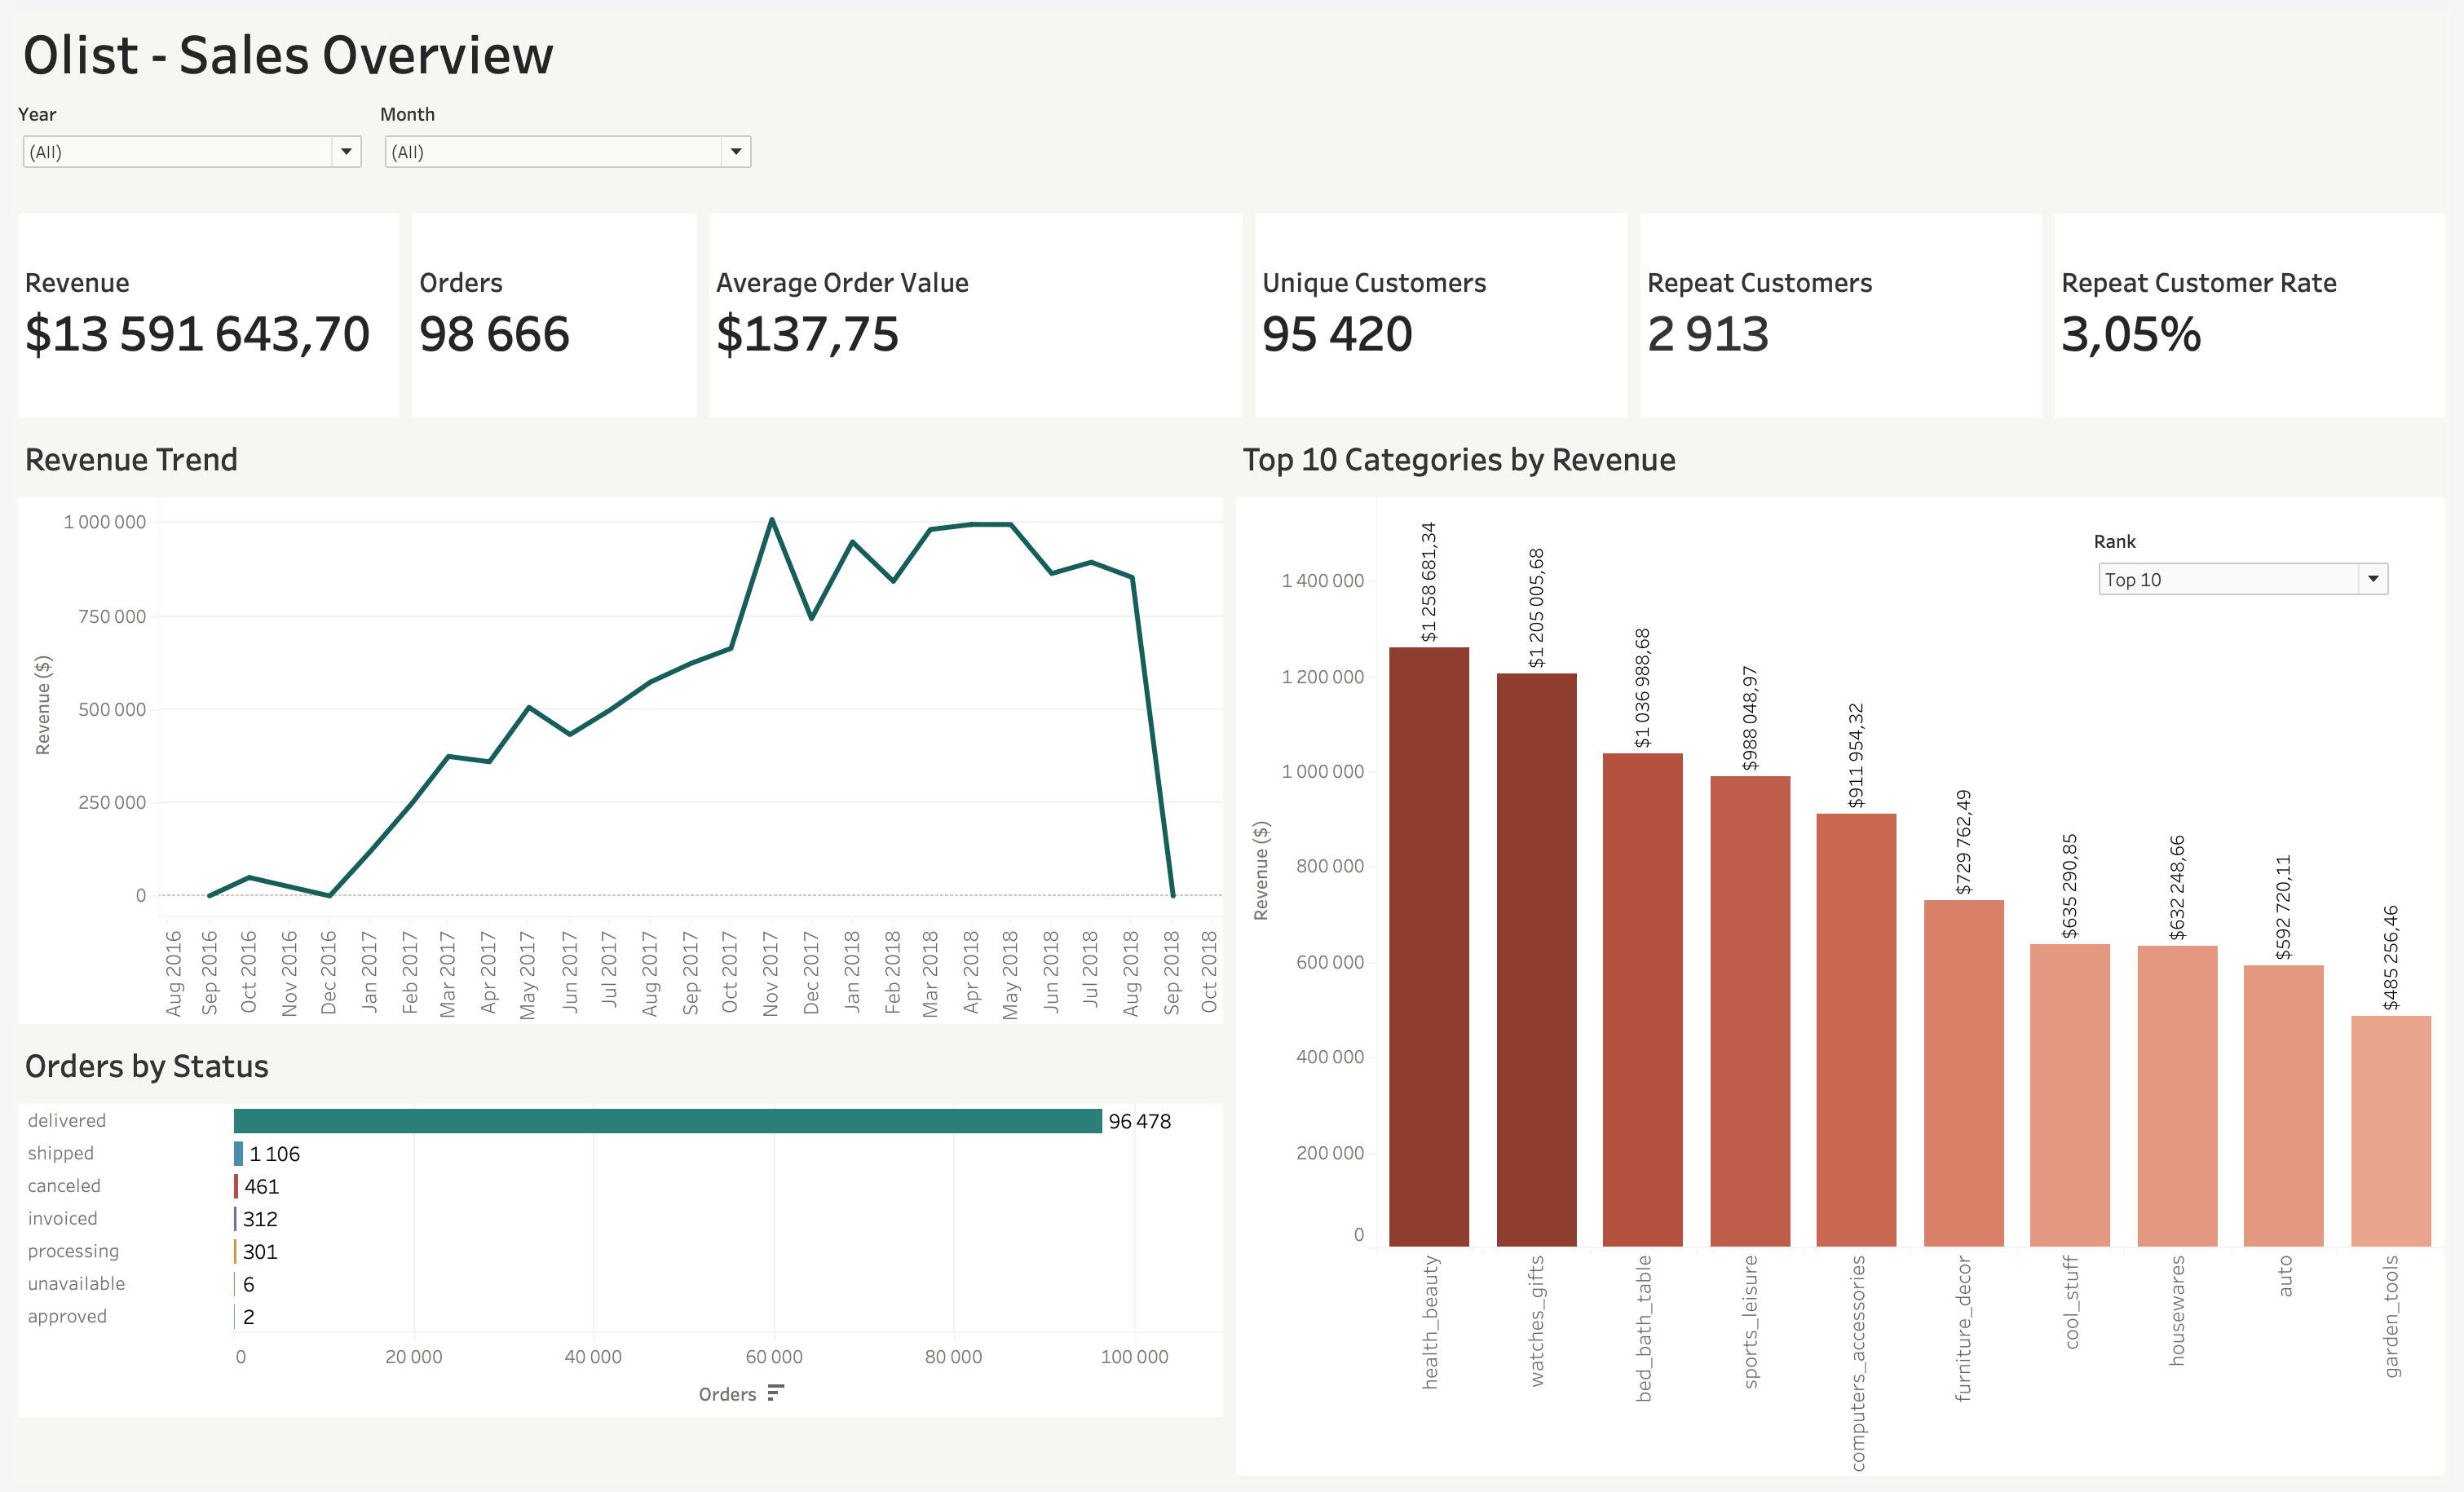

Layout of this report page (visuals, bound fields, positions):
{"tool":"tableau","page":{"name":"Sales Analysis","canvas":[1000,1000],"units":"permille","ordinal":1},"visuals":[{"type":"title","box":[5.4,9.7,989.2,62.7]},{"type":"filter","title":"Orders by Status","param":"[federated.1svawzv15lw1871e6vdpe0euouzc].[yr:order_purchase_timestamp:ok]","box":[5.4,72.4,149.4,68.7]},{"type":"filter","title":"Revenue Trend","param":"[federated.1svawzv15lw1871e6vdpe0euouzc].[mn:order_purchase_timestamp:ok]","box":[154.8,72.4,160.8,68.7]},{"type":"worksheet","title":"KPI Revenue","mark":"Automatic","box":[5.4,141.1,162.8,144.8]},{"type":"worksheet","title":"KPI Orders","mark":"Automatic","box":[168.2,141.1,122.5,144.8]},{"type":"worksheet","title":"KPI AOV","mark":"Automatic","box":[290.7,141.1,216.6,144.8]},{"type":"worksheet","title":"KPI Unique Customers","mark":"Automatic","box":[507.3,141.1,158.8,144.8]},{"type":"worksheet","title":"KPI Repeat Customers","mark":"Automatic","box":[666.1,141.1,162.3,144.8]},{"type":"worksheet","title":"KPI Repeat Customer Rate","mark":"Automatic","box":[828.4,141.1,166.2,144.8]},{"type":"worksheet","title":"Revenue Trend","mark":"Line","rows":["Calculation_0382609198833664"],"cols":["order_purchase_timestamp"],"box":[5.4,285.9,494.2,404.1]},{"type":"worksheet","title":"TOP/Bottom 10 Categories by Revenue","mark":"Automatic","rows":["Calculation_0382609198833664"],"cols":["product_category_name_english"],"box":[499.6,285.9,495,704.5]},{"type":"parameter","param":"[Parameters].[Parameter 0558943783575552]","box":[849.9,354.6,121.8,53.1]},{"type":"worksheet","title":"Orders by Status","mark":"Bar","rows":["order_status"],"cols":["Calculation_0382609200959489"],"box":[5.4,689.9,494.2,300.4]}]}

Visuals, with their boxes on the dashboard's canvas, which has no fixed pixel size, in thousandths of its width and height (x1, y1, x2, y2). These are canvas units, not pixel positions in the 2464x1492 screenshot, which may show the page scaled, cropped or inside an application window:
title: 5/10/995/72
"Orders by Status" filter: 5/72/155/141
"Revenue Trend" filter: 155/72/316/141
"KPI Revenue" worksheet: 5/141/168/286
"KPI Orders" worksheet: 168/141/291/286
"KPI AOV" worksheet: 291/141/507/286
"KPI Unique Customers" worksheet: 507/141/666/286
"KPI Repeat Customers" worksheet: 666/141/828/286
"KPI Repeat Customer Rate" worksheet: 828/141/995/286
"Revenue Trend" worksheet (Line marks): 5/286/500/690
"TOP/Bottom 10 Categories by Revenue" worksheet: 500/286/995/990
parameter: 850/355/972/408
"Orders by Status" worksheet (Bar marks): 5/690/500/990
